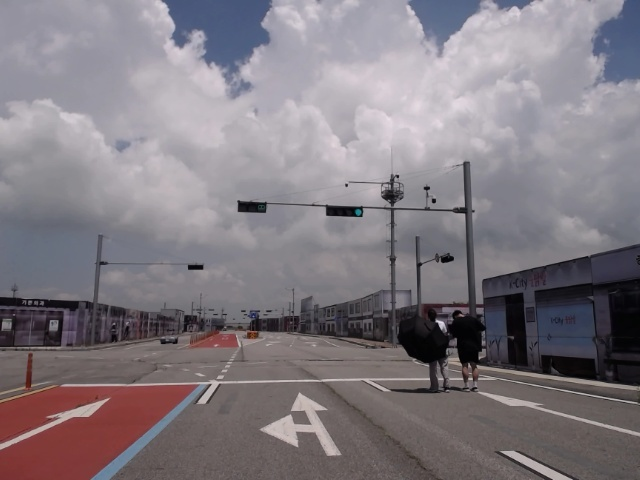straight_green_4: (327, 206, 364, 219)
